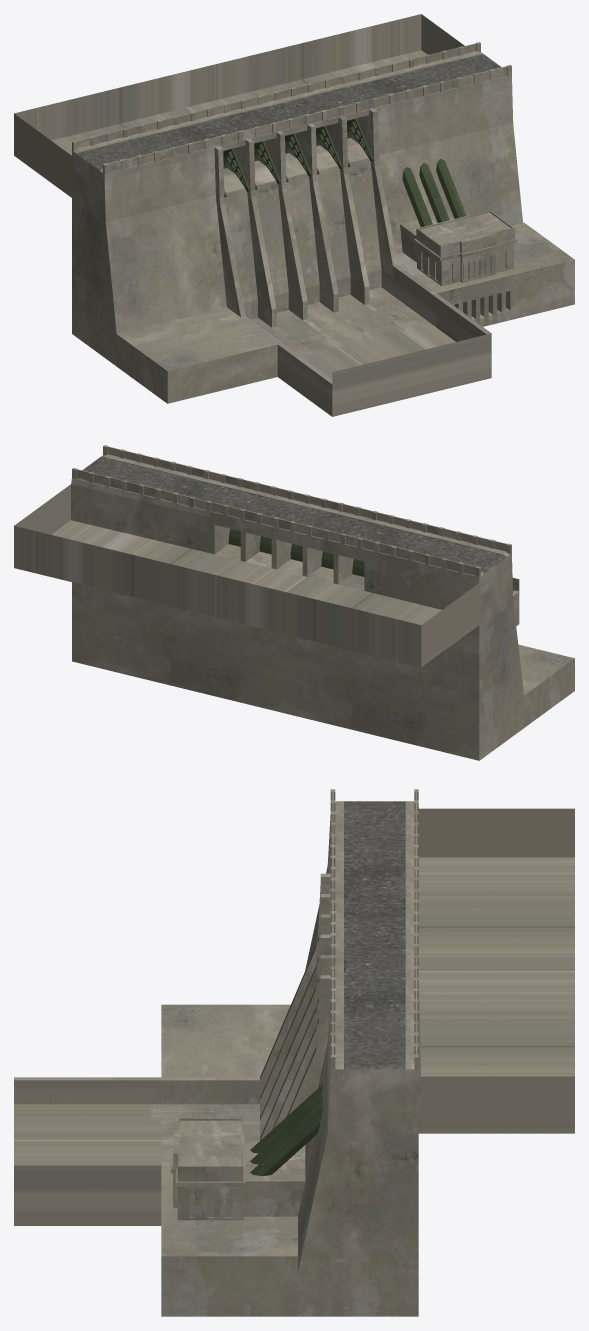
The model's file is water-works.glb.
The picture shows the model from 3 angles, top to bottom: view 1: azimuth 30°, elevation 25°; view 2: azimuth 150°, elevation 25°; view 3: azimuth 270°, elevation 25°; orthographic projection. The views are drawn at different scales.
Visible parts, largest first — view 1: dam_2, Road_3, Power Building_1, Pipes_0; view 2: dam_2, Road_3; view 3: dam_2, Road_3, Power Building_1, Pipes_0.
Boxes of the visible parts, x1,y1,x2,y2 form: dam_2: [14, 14, 574, 416]; Road_3: [72, 42, 511, 173]; Power Building_1: [400, 210, 517, 286]; Pipes_0: [402, 158, 466, 226]; dam_2: [14, 478, 574, 760]; Road_3: [72, 445, 511, 577]; dam_2: [14, 808, 574, 1316]; Road_3: [330, 789, 418, 1069]; Power Building_1: [170, 1117, 305, 1220]; Pipes_0: [250, 1084, 322, 1176].
Bounding box in the file's own units: 43.95 × 19.84 × 38.88.
Materials: 6 (6 with a texture image).
